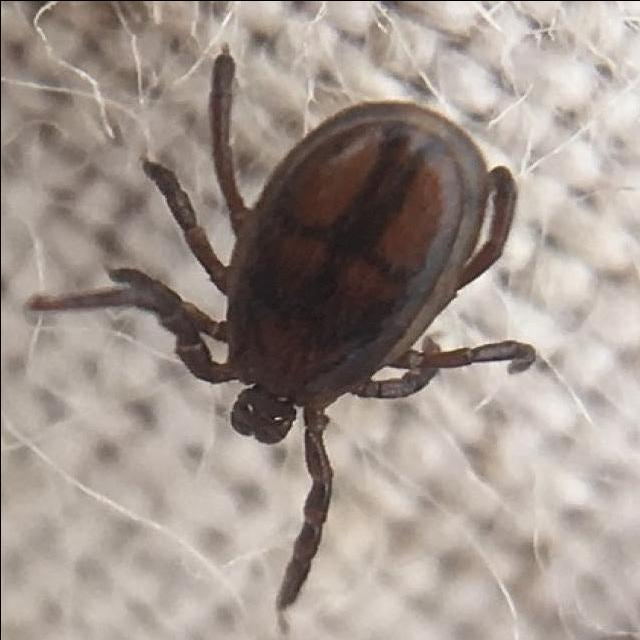Ixodes Ricinus-M: (35, 53, 535, 606)
